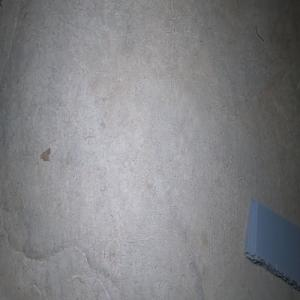PlasticPart: (243, 197, 300, 291)
